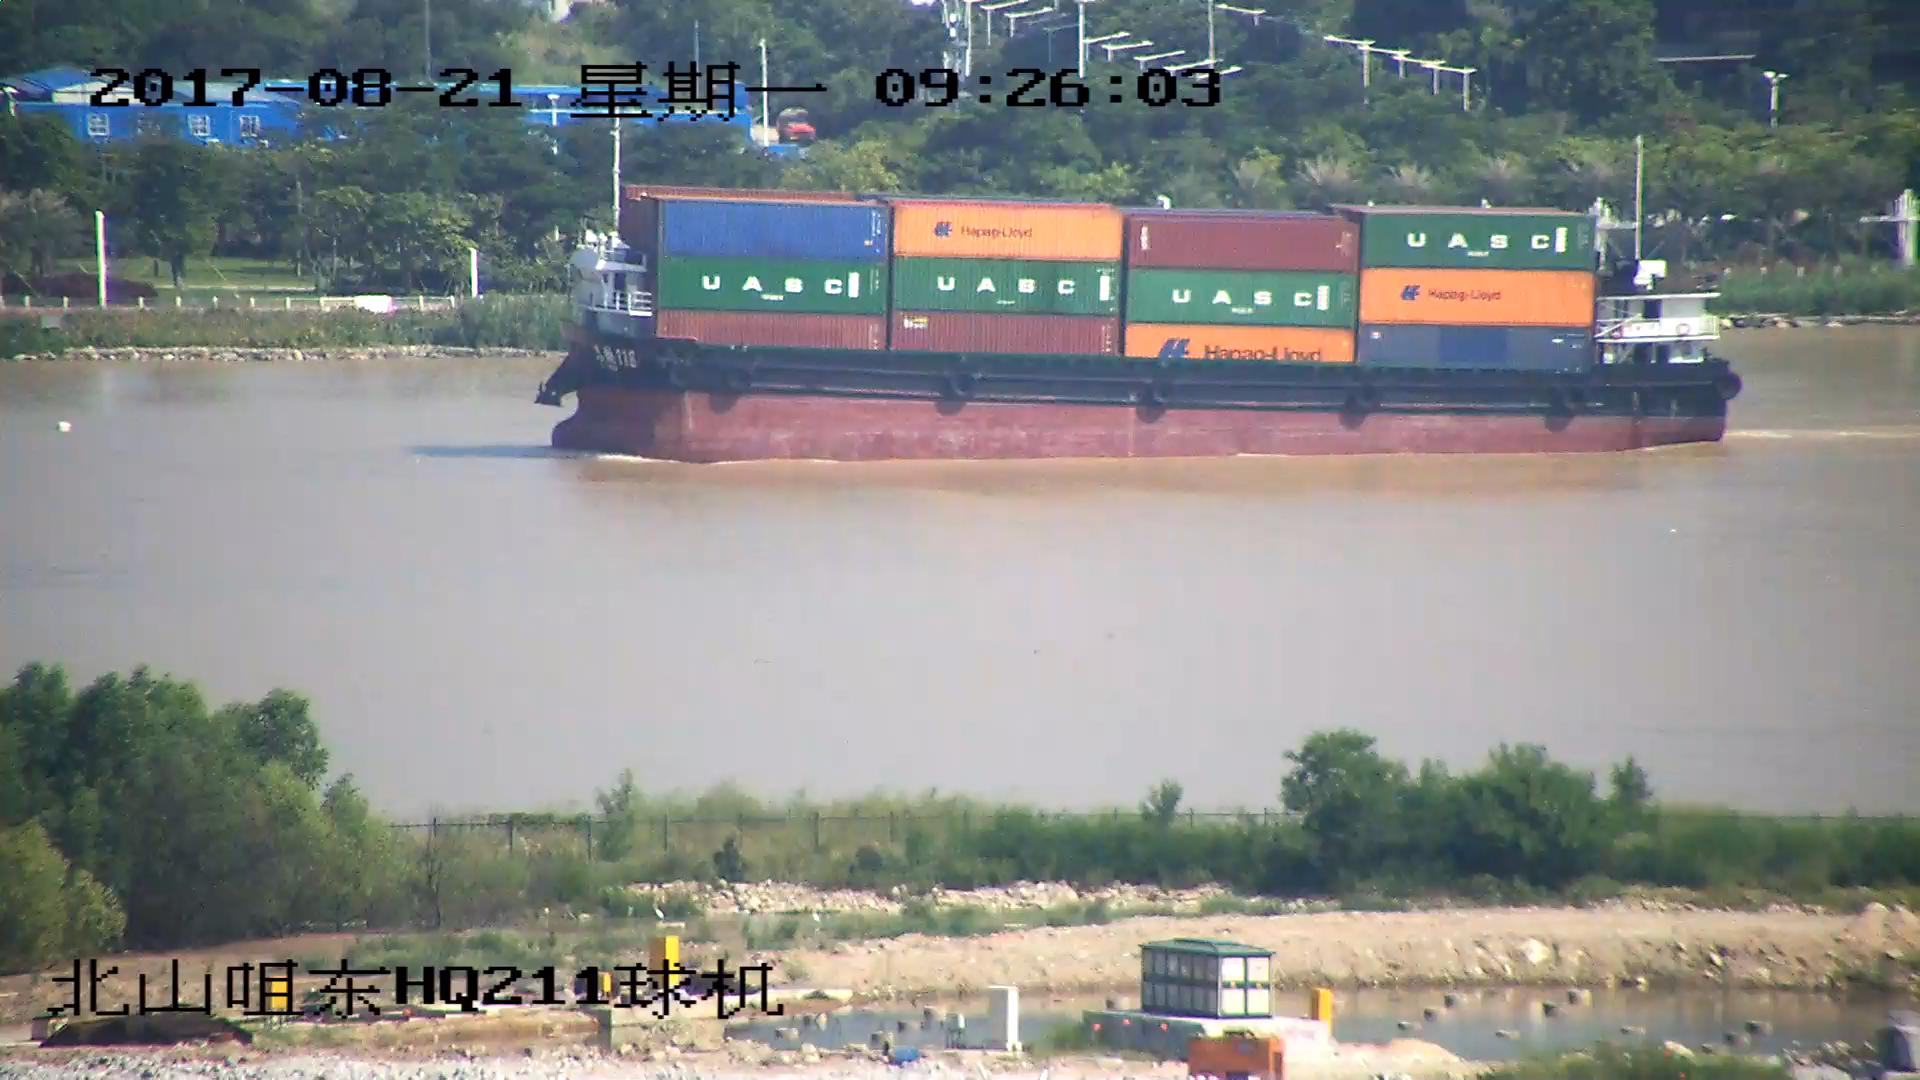container ship: (544, 123, 1744, 460)
